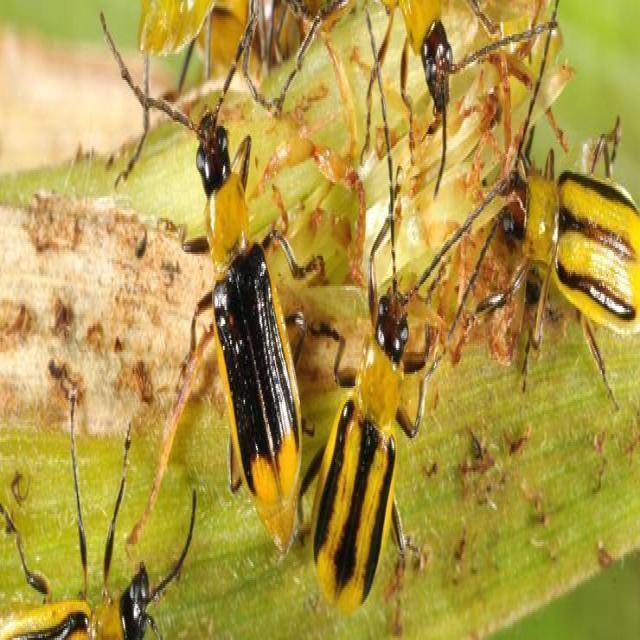trips: (100, 9, 350, 554), (273, 149, 507, 638), (471, 52, 638, 421), (1, 476, 201, 640), (413, 0, 463, 188)
